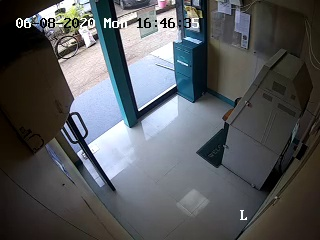open: (18, 8, 139, 205)
